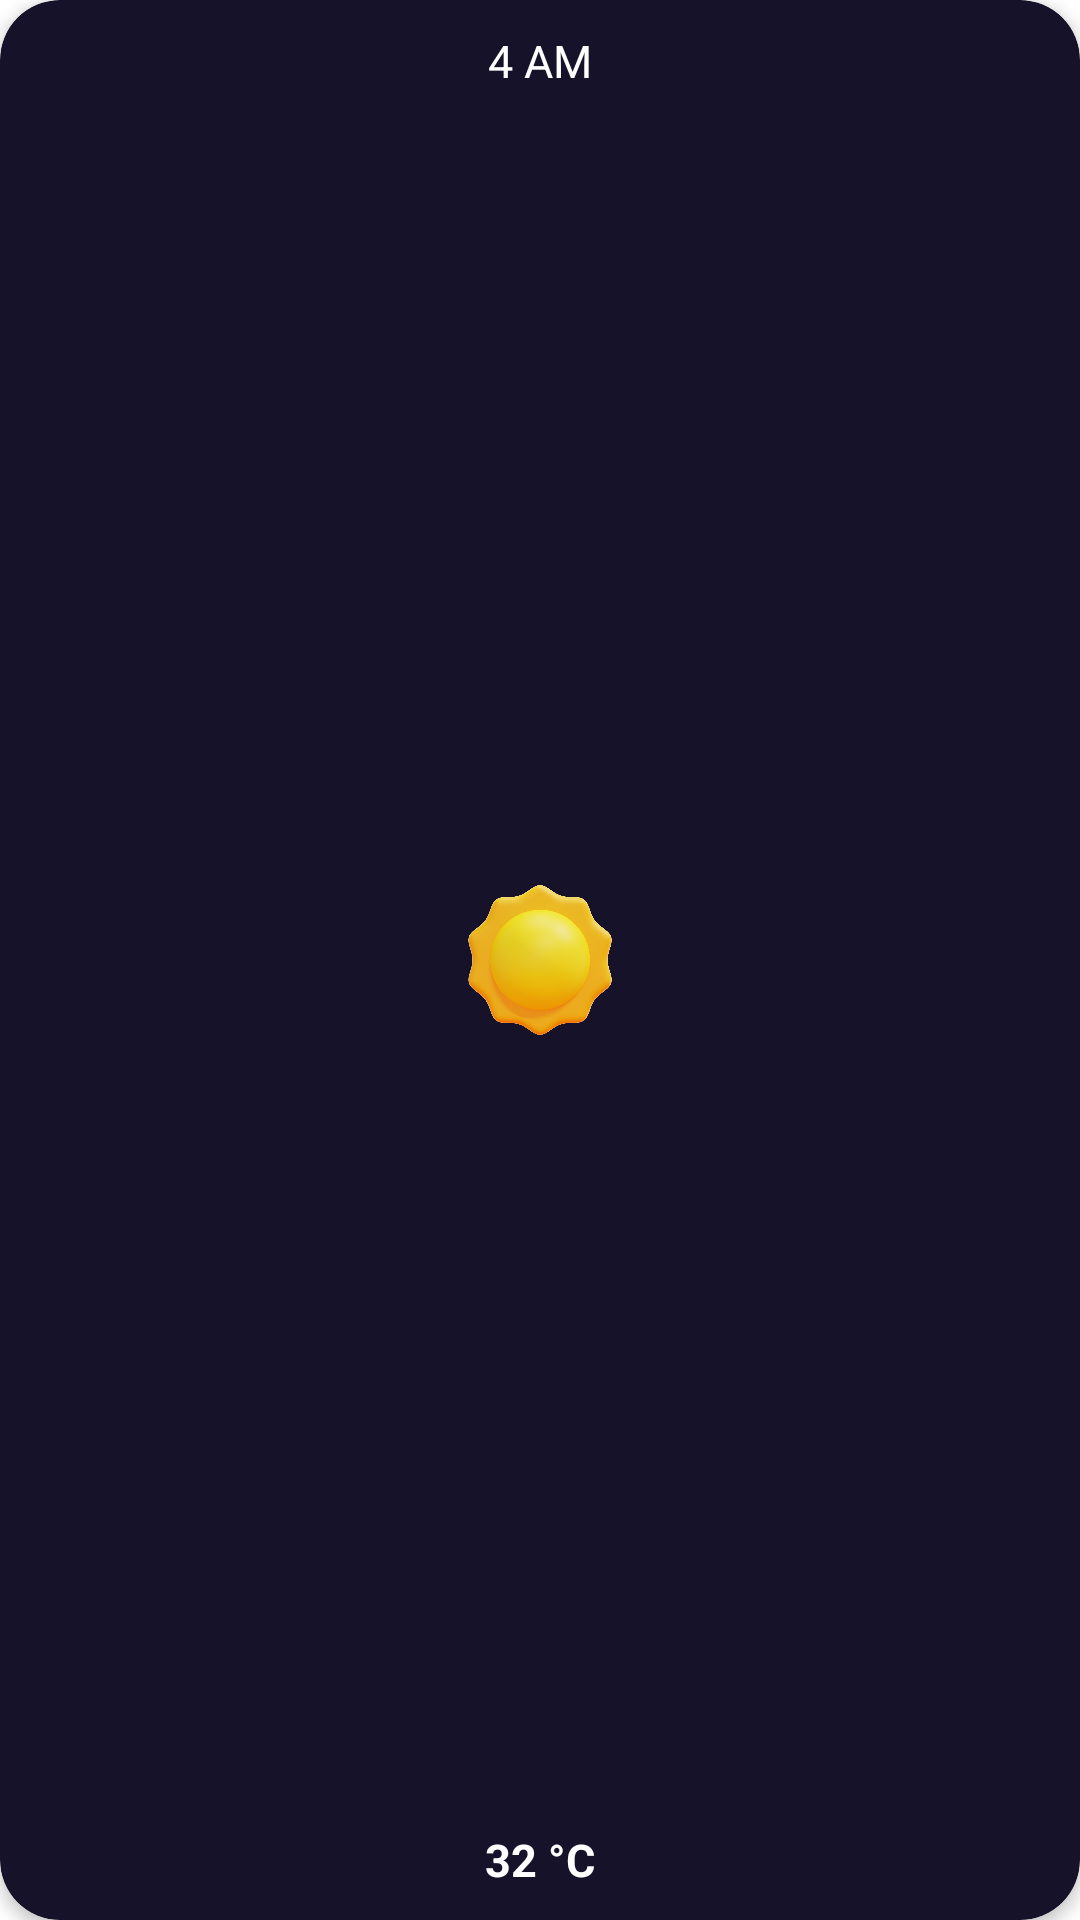

Screen size 1080w x 1920h. Icon name, then its box in pixels as detection(x1, y1, x2, y2):
sunny: detection(468, 885, 612, 1035)
